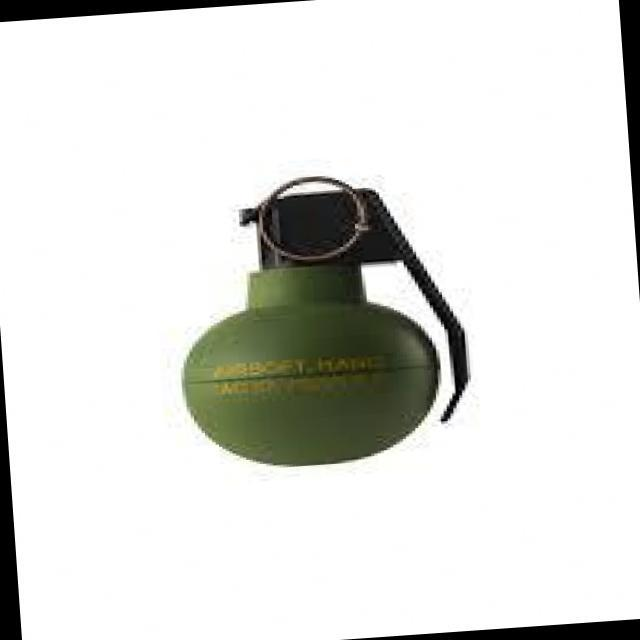grenade: (172, 176, 480, 490)
